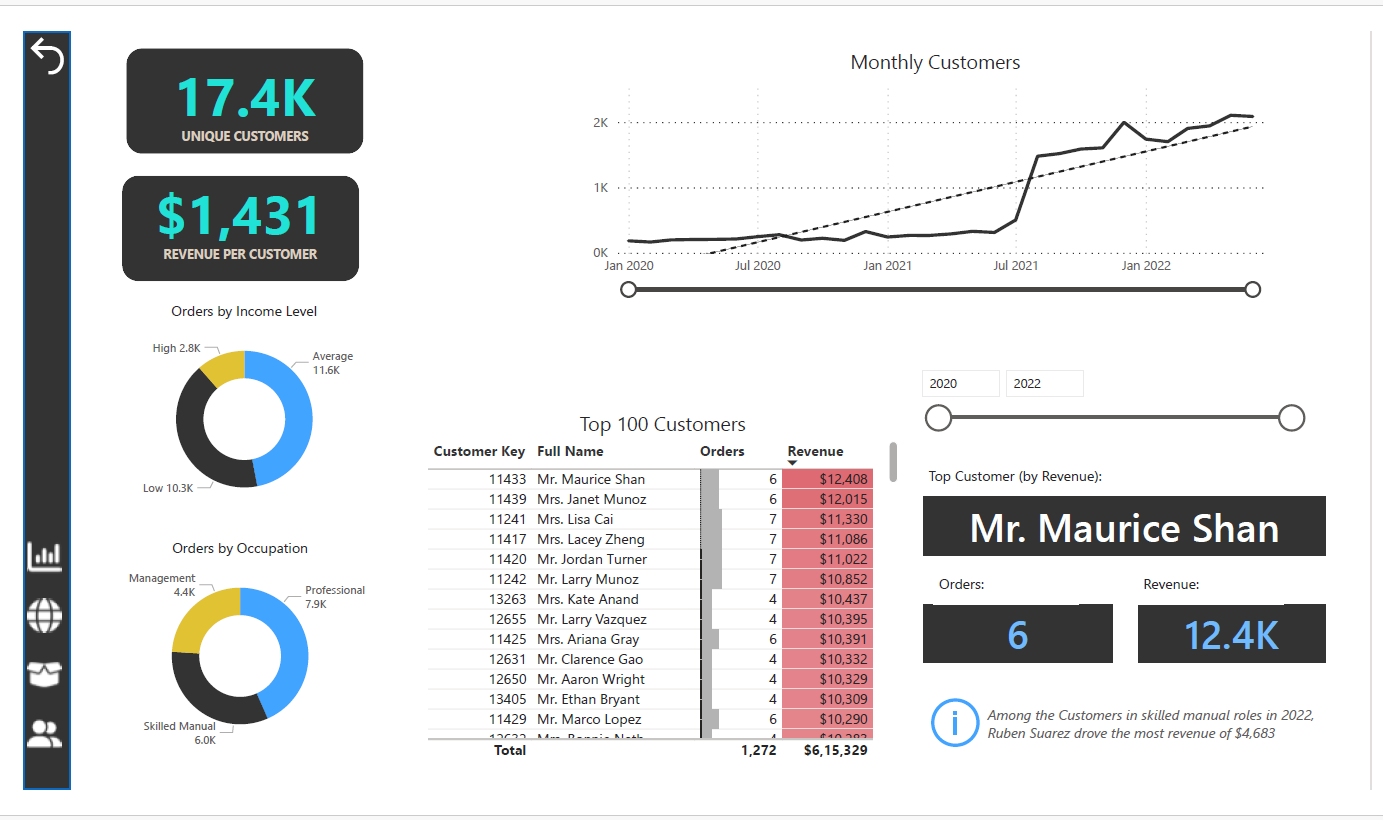

Layout of this report page (visuals, bound fields, positions):
{"tool":"powerbi","page":{"name":"Customer Detail","canvas":[1280,720],"ordinal":3},"visuals":[{"type":"shape","box":[0,0,45,720],"z":0},{"type":"shape","box":[93.8,136.6,225.5,100],"z":1000},{"type":"shape","box":[97.8,16.3,225.5,100],"z":2000},{"type":"card","fields":{"Values":["Measure Table.Total Customers"]},"box":[109.2,-0.8,202.9,135.7],"z":3000},{"type":"card","fields":{"Values":["Measure Table.Average Revenue Per Costomer"]},"box":[104.3,110.9,204.1,135.7],"z":4000},{"type":"lineChart","title":"Monthly Customers","fields":{"Category":["Calendar Lookup.Start of Month.Variation.Date Hierarchy.Year","Calendar Lookup.Start of Month.Variation.Date Hierarchy.Quarter","Calendar Lookup.Start of Month.Variation.Date Hierarchy.Month","Calendar Lookup.Start of Month.Variation.Date Hierarchy.Day"],"Y":["Measure Table.Total Customers"]},"box":[535.7,15.7,661.4,240],"z":5000},{"type":"donutChart","title":"Orders by Income Level","fields":{"Category":["Customer Lookup.Income Level"],"Y":["Measure Table.Total Orders"]},"box":[82.5,256,256,206.2],"z":6000},{"type":"donutChart","title":"Orders by Occupation","fields":{"Y":["Measure Table.Total Orders"],"Category":["Customer Lookup.Occupation"]},"box":[78.2,480.7,256,206.2],"z":7000},{"type":"tableEx","title":"Top 100 Customers","fields":{"Values":["Customer Lookup.CustomerKey","Customer Lookup.Full Name","Measure Table.Total Orders","Measure Table.Total Revenue"]},"box":[378.6,358.6,457.1,337.1],"z":8000},{"type":"card","fields":{"Values":["Customer Lookup.Full Name (Customer Detail)"]},"box":[855.1,442.3,381.4,55.7],"z":9000},{"type":"card","fields":{"Values":["Measure Table.Total Order (Customer Detail)"]},"box":[855.1,543.7,180,55.7],"z":10000},{"type":"card","fields":{"Values":["Measure Table.Total Revenue (Customer Detail)"]},"box":[1059.4,543.7,177.1,55.7],"z":11000},{"type":"textbox","box":[855.1,408,355.7,32.9],"z":12000},{"type":"textbox","box":[865.1,510.9,137.1,32.9],"z":13000},{"type":"textbox","box":[1059.4,510.9,137.1,32.9],"z":14000},{"type":"slicer","fields":{"Values":["Calendar Lookup.Year"]},"box":[841.4,311.4,384.3,84.3],"z":15000},{"type":"actionButton","box":[855.7,627.1,408.6,58.6],"z":16000},{"type":"actionButton","box":[0,478.6,44.3,40],"z":17000},{"type":"actionButton","box":[0,534.8,44.3,40],"z":18000},{"type":"actionButton","box":[0,591,44.3,40],"z":19000},{"type":"actionButton","box":[0,647.1,44.3,40],"z":20000},{"type":"actionButton","box":[0,0,53.8,46.5],"z":21000}]}

Visuals, with their boxes on the page's 1280x720 design canvas (x1, y1, x2, y2). These are canvas units, not pixel positions in the 1383x820 screenshot, which may show the page scaled, cropped or inside an application window:
shape: <bbox>0, 0, 45, 720</bbox>
shape: <bbox>94, 137, 319, 237</bbox>
shape: <bbox>98, 16, 323, 116</bbox>
card - Measure Table.Total Customers: <bbox>109, -1, 312, 135</bbox>
card - Measure Table.Average Revenue Per Costomer: <bbox>104, 111, 308, 247</bbox>
"Monthly Customers" lineChart: <bbox>536, 16, 1197, 256</bbox>
"Orders by Income Level" donutChart: <bbox>82, 256, 338, 462</bbox>
"Orders by Occupation" donutChart: <bbox>78, 481, 334, 687</bbox>
"Top 100 Customers" tableEx: <bbox>379, 359, 836, 696</bbox>
card - Customer Lookup.Full Name (Customer Detail): <bbox>855, 442, 1236, 498</bbox>
card - Measure Table.Total Order (Customer Detail): <bbox>855, 544, 1035, 599</bbox>
card - Measure Table.Total Revenue (Customer Detail): <bbox>1059, 544, 1236, 599</bbox>
textbox: <bbox>855, 408, 1211, 441</bbox>
textbox: <bbox>865, 511, 1002, 544</bbox>
textbox: <bbox>1059, 511, 1196, 544</bbox>
slicer - Calendar Lookup.Year: <bbox>841, 311, 1226, 396</bbox>
actionButton: <bbox>856, 627, 1264, 686</bbox>
actionButton: <bbox>0, 479, 44, 519</bbox>
actionButton: <bbox>0, 535, 44, 575</bbox>
actionButton: <bbox>0, 591, 44, 631</bbox>
actionButton: <bbox>0, 647, 44, 687</bbox>
actionButton: <bbox>0, 0, 54, 46</bbox>
